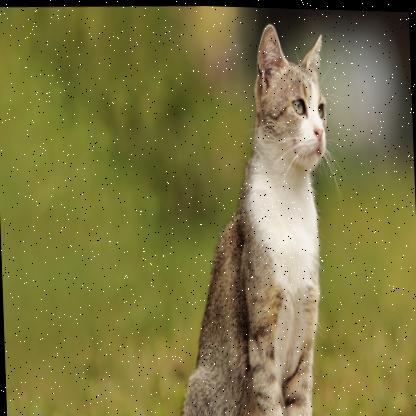cat: (230, 29, 338, 416)
